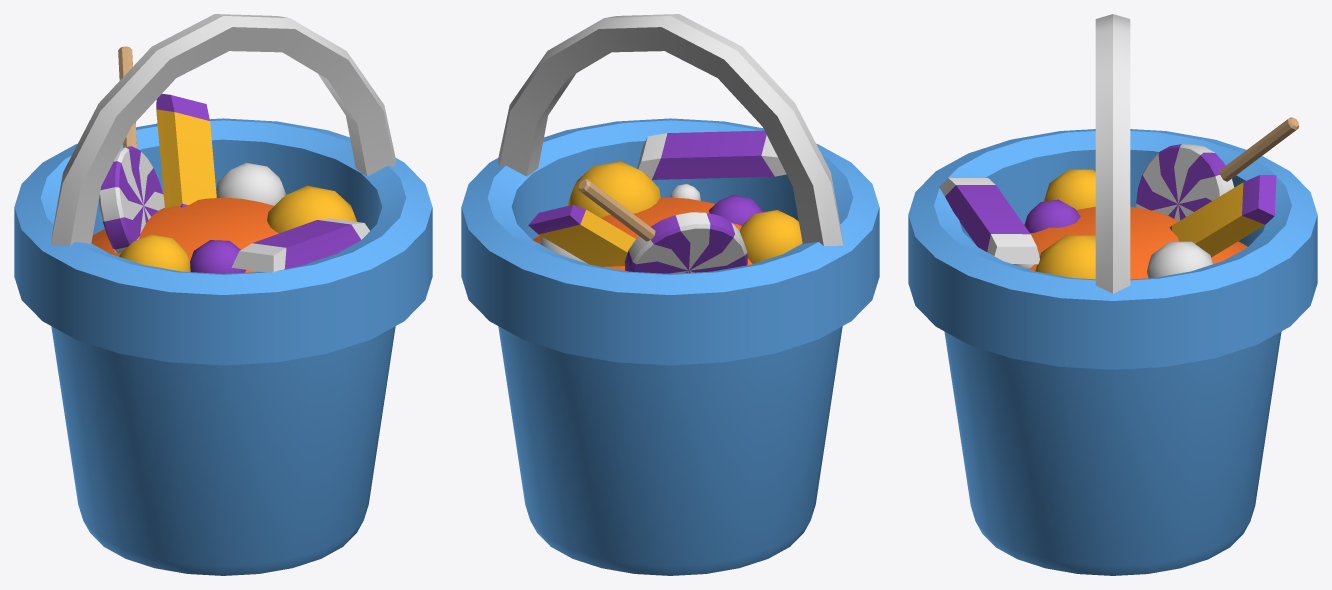
Rendered from candyBucket.gltf.glb.
3 views of the same model, side by side, from view 1: azimuth 30°, elevation 25°; view 2: azimuth 150°, elevation 25°; view 3: azimuth 270°, elevation 25° (orthographic). The views are drawn at different scales.
Visible parts, largest first — view 1: candyBucket; view 2: candyBucket; view 3: candyBucket.
Boxes of the visible parts, <box> form: candyBucket: <box>14,14,432,575</box>; candyBucket: <box>461,14,879,575</box>; candyBucket: <box>908,14,1317,575</box>.
Size of the model in its own units: 1.08 by 1.44 by 1.08.
